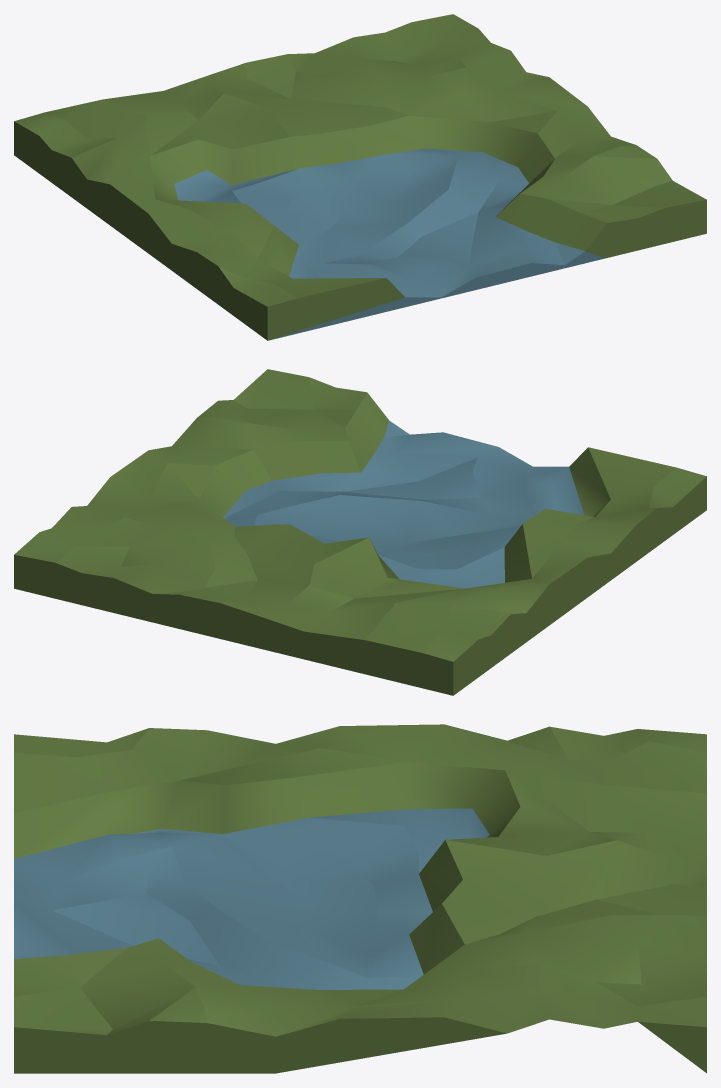
Rendered from Water_River_Ending_U.glb.
3 renders of one model, top to bottom at view 1: azimuth 30°, elevation 25°; view 2: azimuth 150°, elevation 25°; view 3: azimuth 270°, elevation 25°, orthographic. The views are drawn at different scales.
Visible parts, largest first — view 1: Water_River_Ending_U; view 2: Water_River_Ending_U; view 3: Water_River_Ending_U.
Boxes of the visible parts, left/top/right/bottom form: Water_River_Ending_U: left=14, top=14, right=706, bottom=340; Water_River_Ending_U: left=14, top=369, right=706, bottom=695; Water_River_Ending_U: left=14, top=724, right=706, bottom=1073.
Size of the model in its own units: 1.47 by 0.1429 by 1.47.
